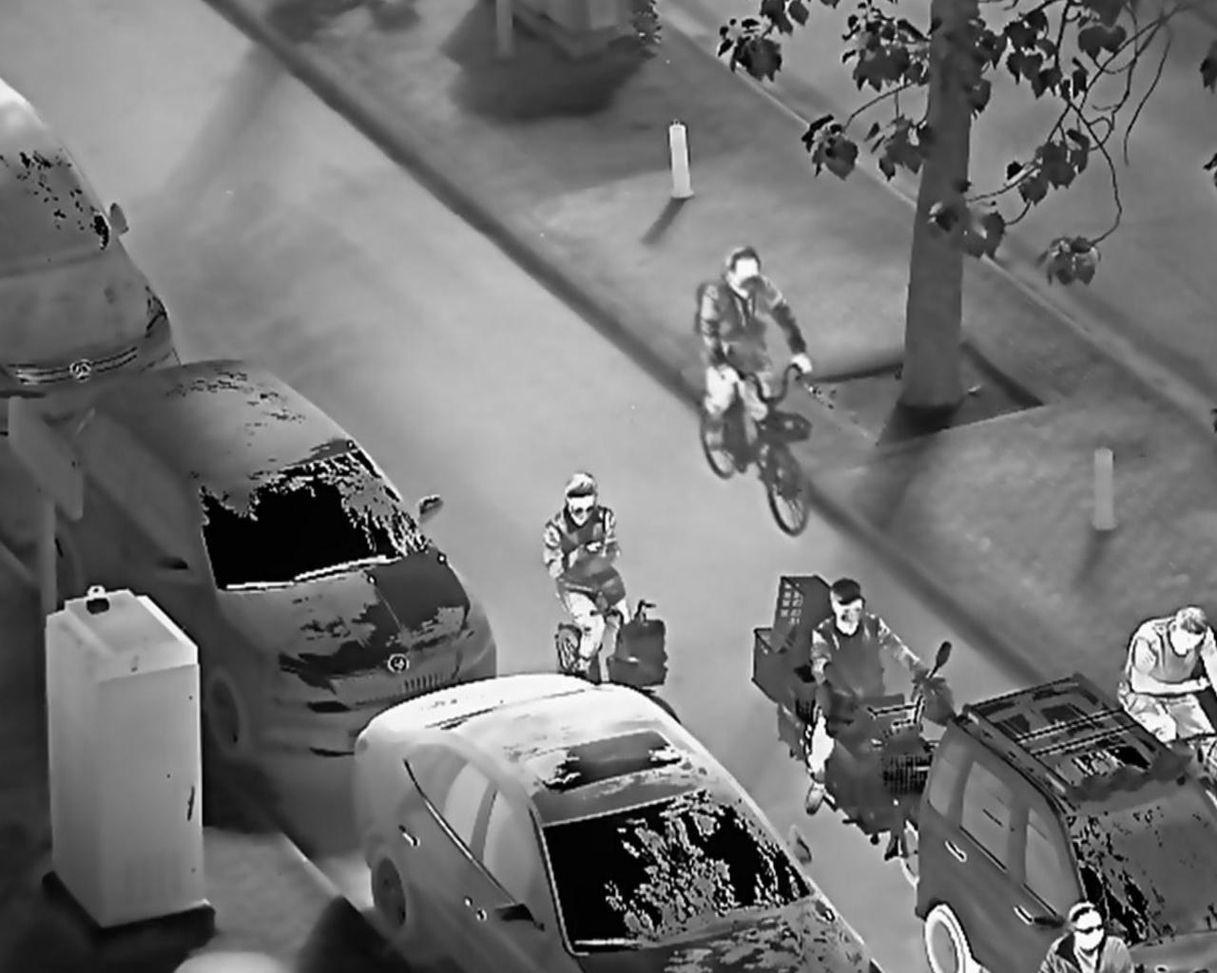person: (801, 575, 938, 818), (695, 243, 818, 436), (542, 467, 635, 682), (1116, 602, 1217, 767)
